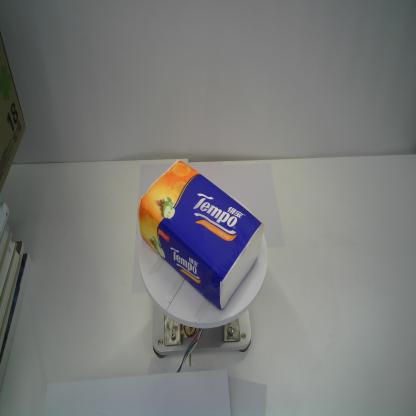Tissue: (136, 157, 265, 314)
